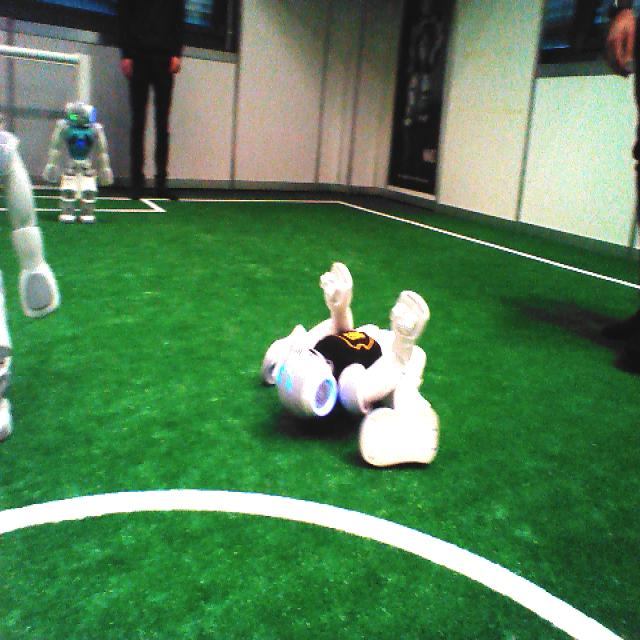goalpost: (76, 53, 90, 103)
